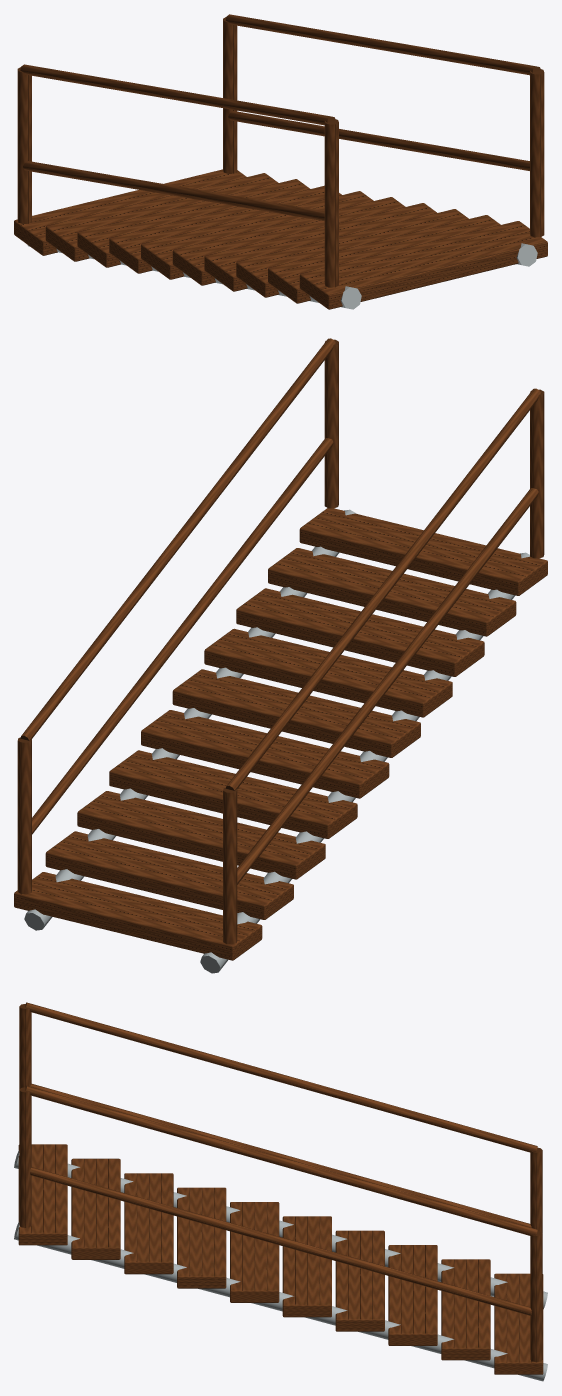
Rendered from flooded-and-coastal-survival-inclined-gangway-50908203__20043.glb.
3 views of the same model, one above another, from view 1: azimuth 30°, elevation 25°; view 2: azimuth 150°, elevation 25°; view 3: azimuth 270°, elevation 25° (orthographic). The views are drawn at different scales.
Visible parts, largest first — view 1: inclined-gangway; view 2: inclined-gangway; view 3: inclined-gangway.
Part boxes in pixels (bbox=[...]): inclined-gangway: bbox=[14, 14, 547, 309]; inclined-gangway: bbox=[14, 338, 547, 973]; inclined-gangway: bbox=[14, 1002, 547, 1381].
Size of the model in its own units: 1.2 by 1.89 by 3.03.
2 materials, 1 textured.
